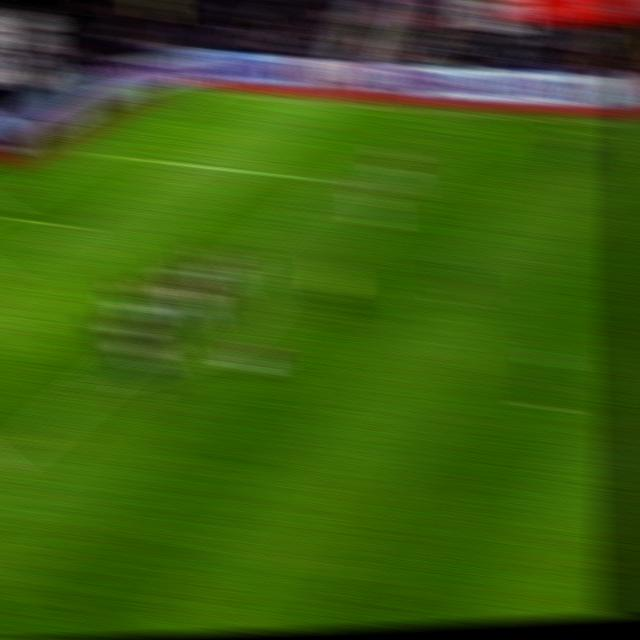bigarea_top_inner: (318, 166, 354, 191)
bigarea_top_outter: (77, 142, 114, 161)
bottom_arc_area_intersection: (73, 374, 111, 399)
corner: (181, 83, 222, 99)
smallarea_top_inner: (56, 212, 94, 238)
smallarea_top_outter: (0, 196, 10, 223)
top_arc_area_intersection: (225, 246, 262, 270)
